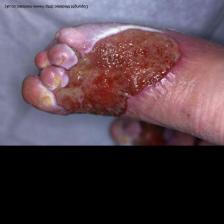Wound: (52, 29, 183, 111)
